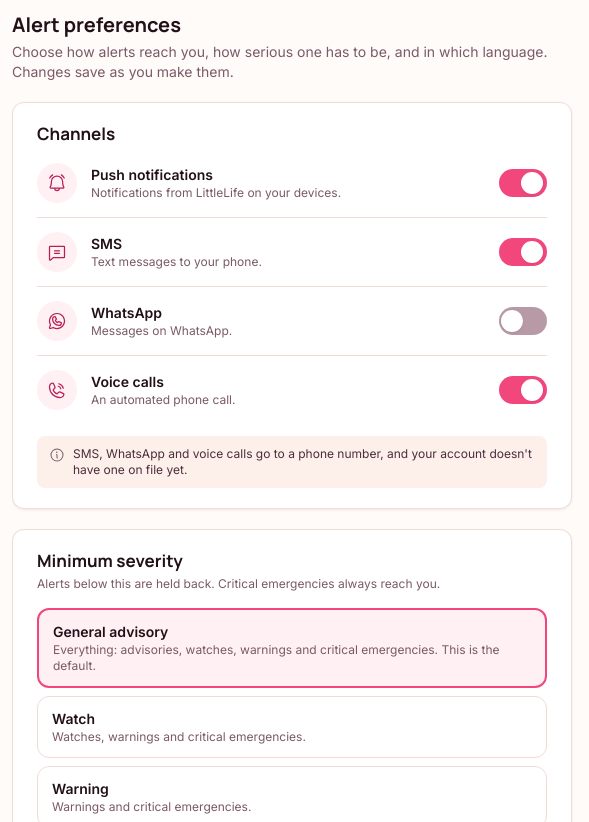
Test: AlertPreferencesPage › saving as you go › keeps a switch tapped twice as the last tap left it
Click the switch named "Push notifications" in the row of "Push notifications". click: (523, 183)
box: [499, 169, 547, 197]
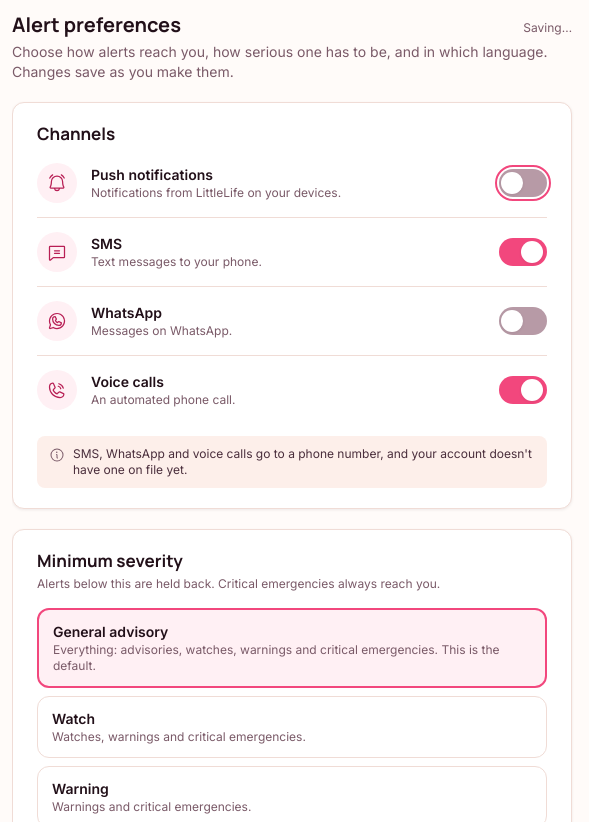
Click the switch named "Push notifications" in the row of "Push notifications". click: (523, 183)
box: [499, 169, 547, 197]
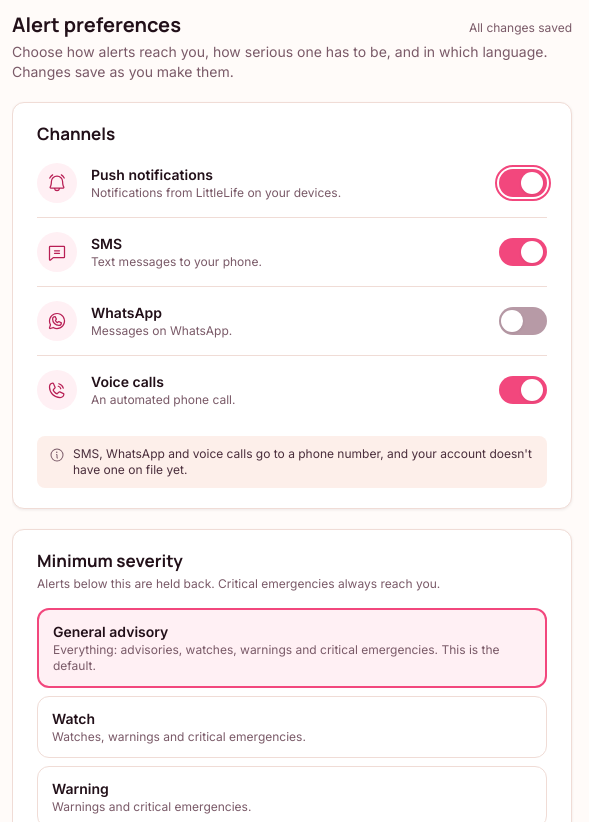
Expected: the switch named "Push notifications" in the row of "Push notifications" is checked, [499, 169, 547, 197]
Expected: the text "All changes saved" is shown, [469, 20, 572, 36]
